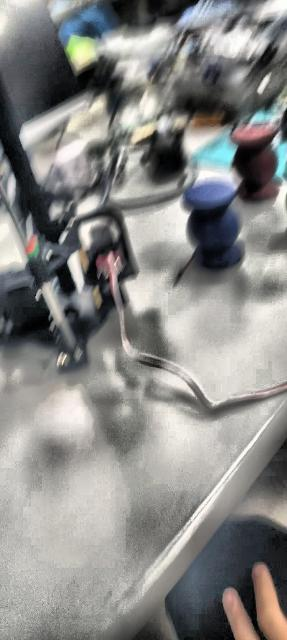blue: (184, 179, 244, 269)
red: (232, 127, 287, 201)
